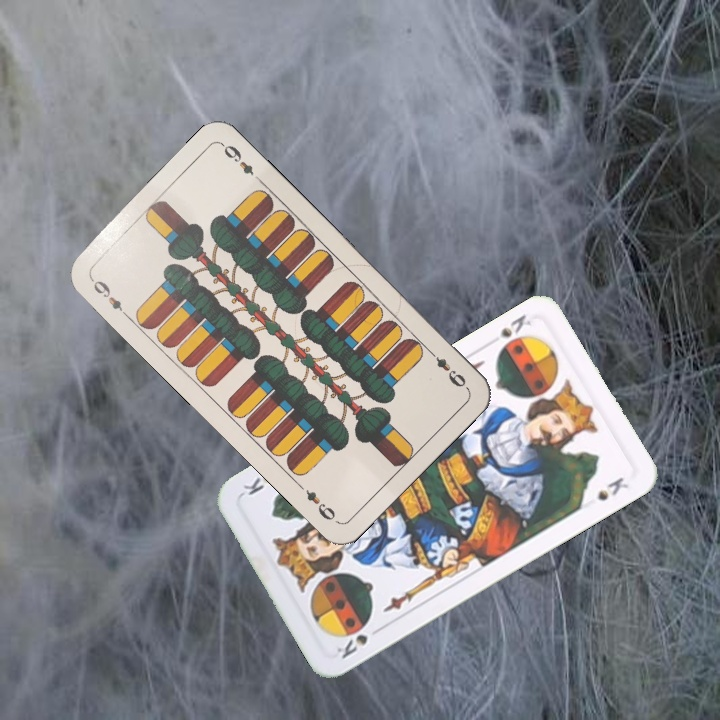E9: (86, 274, 132, 321), (424, 345, 470, 391)
SK: (332, 622, 385, 662), (496, 310, 534, 341)
